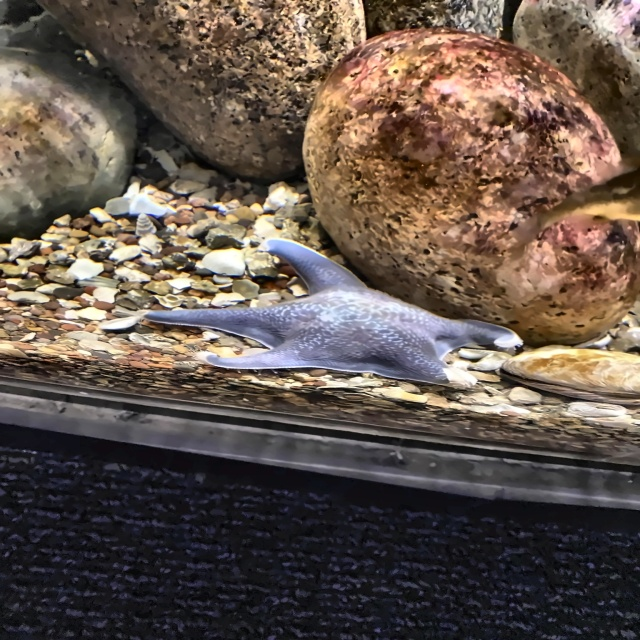starfish: (137, 238, 524, 393)
